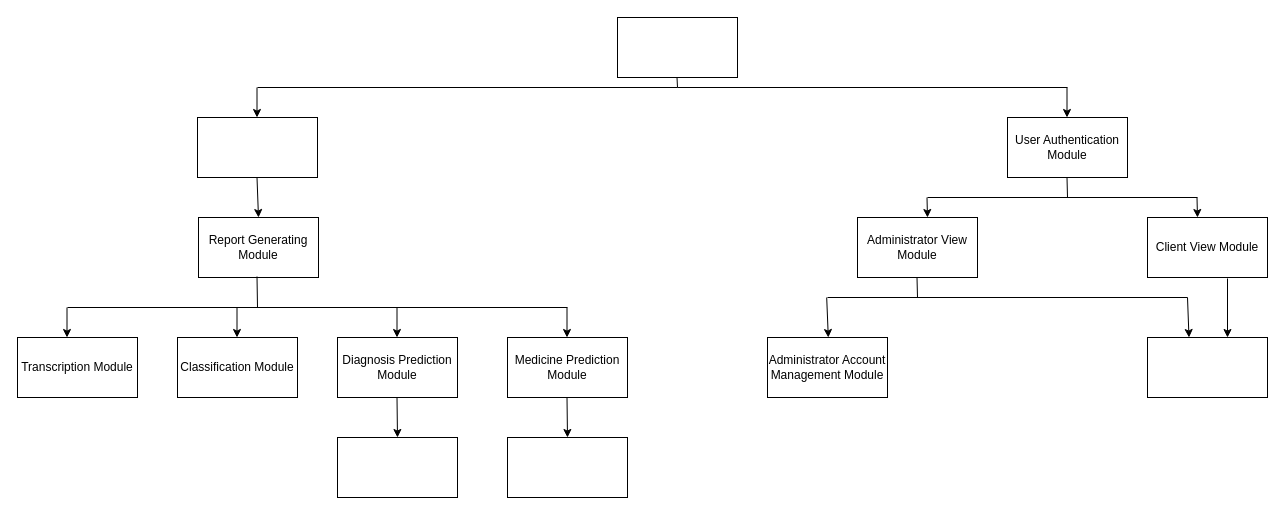
The diagram is 1285 pixels wide and 515 high, and some of its shapes have lost their labels. The shapes that lost their labels are listed below. From the top down, each one's box as (x1, y1, x2, y2) in pixels, then its label:
(616, 16, 738, 78): App Module
(196, 116, 318, 178): API Module
(1146, 336, 1268, 398): Patient Account Management Module
(336, 436, 458, 498): Diagnosis Data Module
(506, 436, 628, 498): Medicine Data Module
